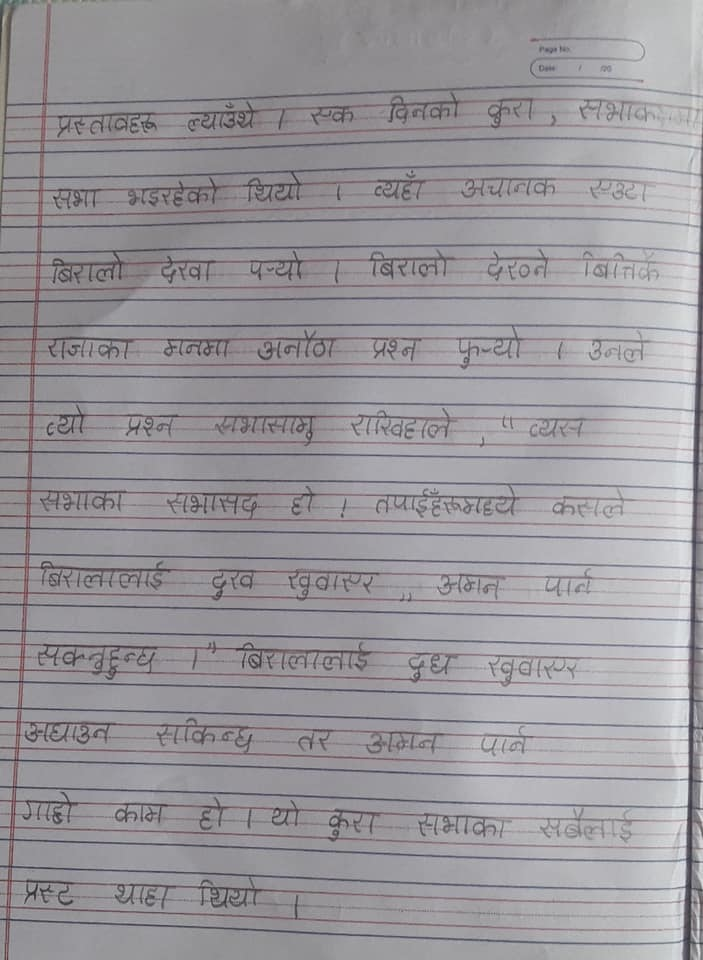text: (235, 638, 374, 679), (36, 639, 161, 681), (372, 483, 520, 518), (34, 558, 170, 594), (154, 716, 259, 754), (574, 96, 701, 127), (207, 411, 319, 446), (480, 650, 583, 688), (538, 806, 639, 844), (348, 407, 457, 442), (284, 565, 382, 603), (578, 245, 667, 285), (52, 109, 160, 140), (119, 177, 226, 208), (456, 323, 526, 369), (416, 810, 516, 842), (365, 247, 457, 281), (382, 90, 466, 127), (457, 171, 560, 200), (182, 98, 262, 135), (255, 327, 341, 361), (162, 490, 261, 519), (22, 714, 116, 744), (482, 246, 553, 285), (44, 253, 126, 286), (553, 484, 628, 520), (42, 335, 136, 363), (366, 725, 447, 756), (196, 875, 264, 911), (38, 488, 128, 514), (586, 328, 649, 365), (20, 790, 78, 829), (436, 570, 506, 602), (325, 805, 383, 843), (539, 565, 597, 602), (156, 252, 217, 287), (248, 249, 307, 285), (156, 337, 234, 364), (403, 650, 463, 685), (584, 175, 659, 202), (373, 169, 429, 205), (478, 720, 532, 757), (109, 880, 177, 909), (239, 173, 306, 202), (18, 876, 77, 908), (207, 565, 259, 600), (524, 413, 587, 441), (484, 97, 539, 129), (368, 333, 424, 364), (120, 412, 180, 440), (47, 184, 104, 213), (44, 404, 91, 439), (112, 799, 168, 826), (309, 98, 358, 128), (196, 794, 228, 834), (295, 723, 335, 754), (268, 797, 305, 830), (289, 484, 317, 522)
